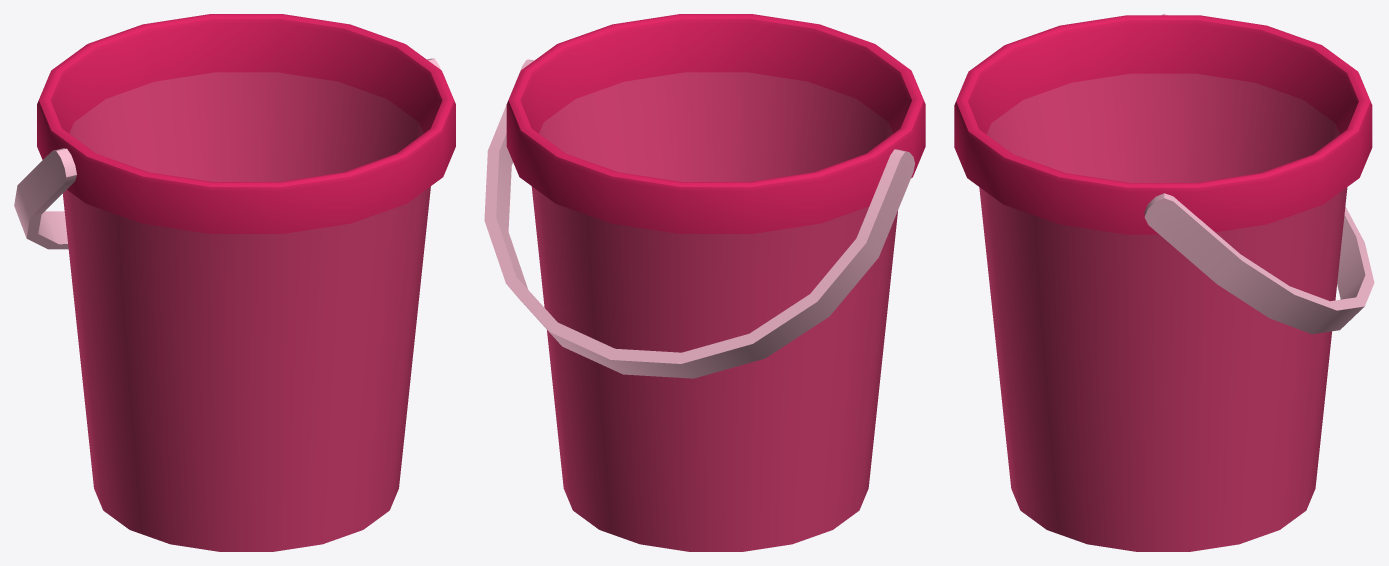
The model's file is Bucket.fbx.
3 renders of one model, left to right at view 1: azimuth 30°, elevation 25°; view 2: azimuth 150°, elevation 25°; view 3: azimuth 270°, elevation 25°, orthographic.
Visible parts, largest first — view 1: Bucket; view 2: Bucket; view 3: Bucket.
Boxes of the visible parts, x1=… form: Bucket: x1=14, y1=14, x2=455, y2=551; Bucket: x1=484, y1=14, x2=925, y2=551; Bucket: x1=954, y1=14, x2=1374, y2=551.
Bounding box in the file's own units: 23.9 × 23.51 × 23.02.
1 material, 1 textured.
